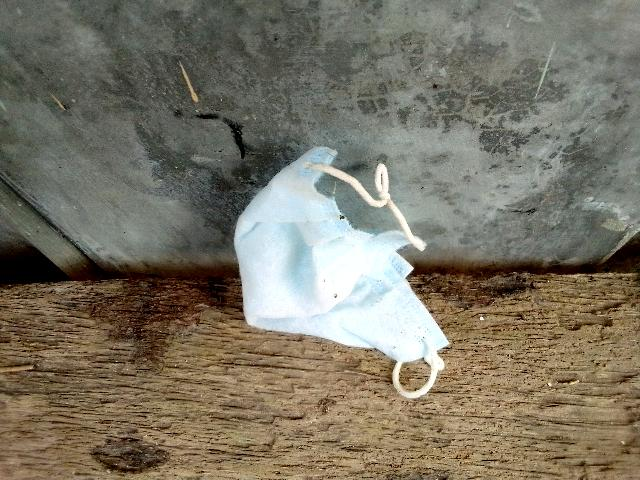mask: (221, 147, 467, 368)
